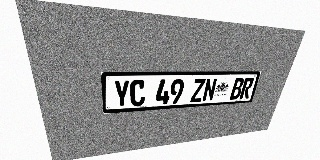4: (155, 79, 171, 105)
9: (169, 79, 185, 104)
B: (229, 78, 245, 100)
C: (130, 80, 146, 107)
N: (202, 78, 217, 101)
R: (239, 78, 255, 99)
Y: (113, 80, 130, 108)
Z: (190, 78, 206, 102)
